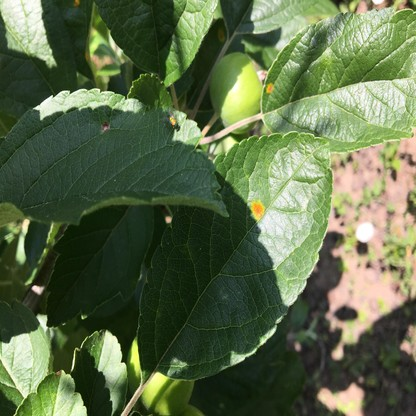rust: (251, 200, 265, 218), (216, 27, 225, 43), (266, 82, 274, 94), (74, 0, 81, 7), (56, 370, 61, 376)
